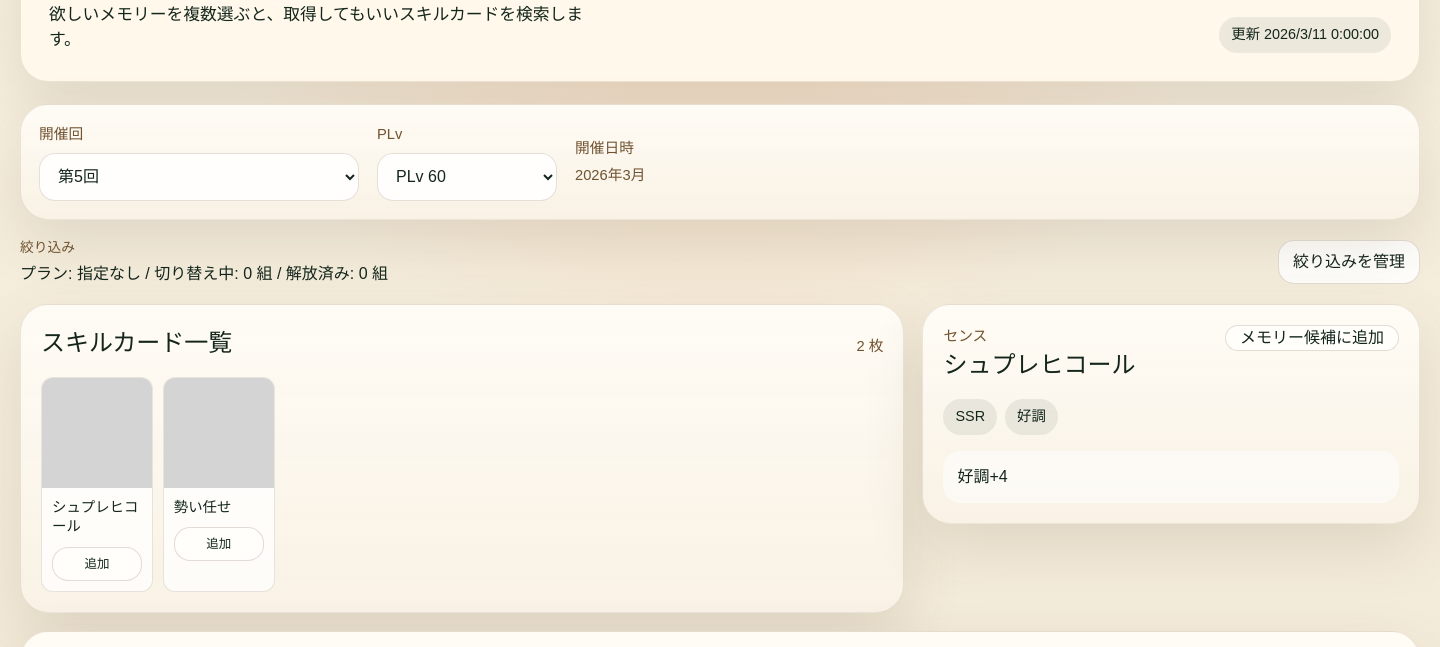
Test: AppShell › lets selected memories switch between base and upgraded states
The image size is (1440, 647).
Click the button with aria-label "シュプレヒコールを候補に追加" at (97, 485), box [41, 377, 153, 592]
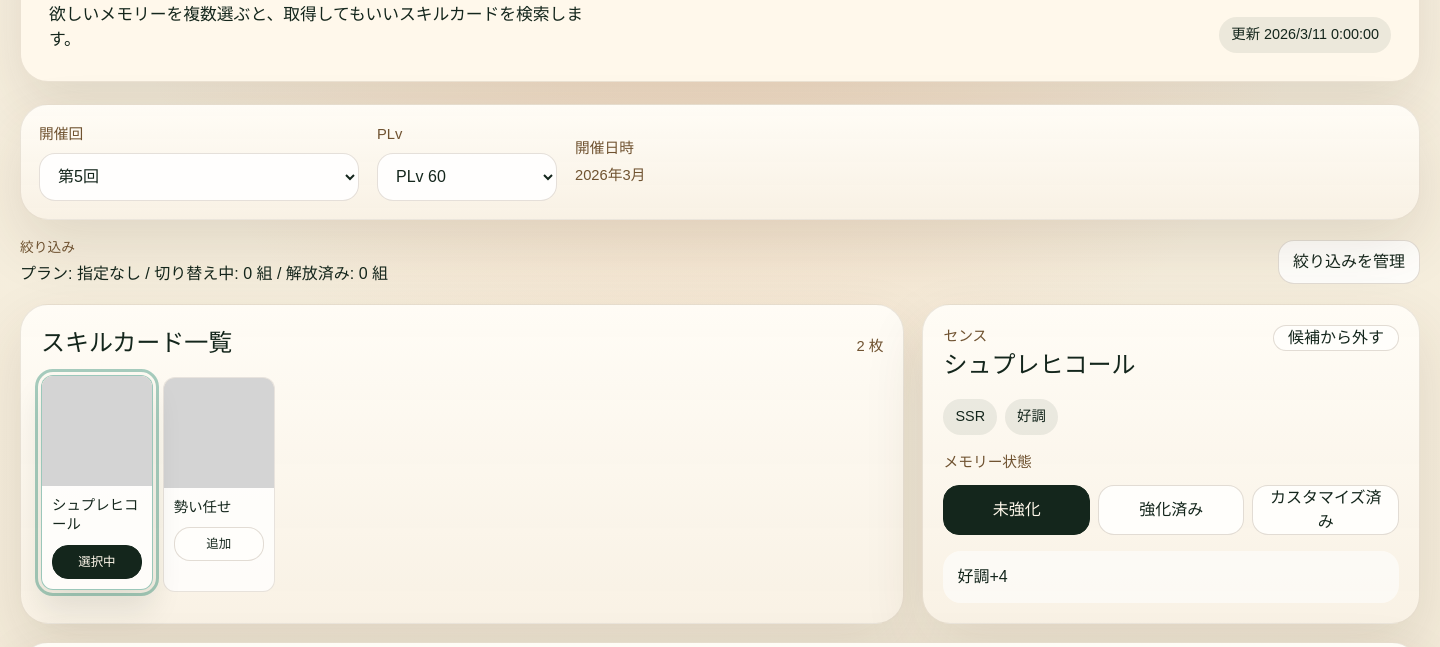
Expected: the text "好調+4" is shown, [958, 568, 1008, 585]
Click the button "強化済み" at (1171, 510), box [1098, 485, 1244, 535]
(page scrolled)
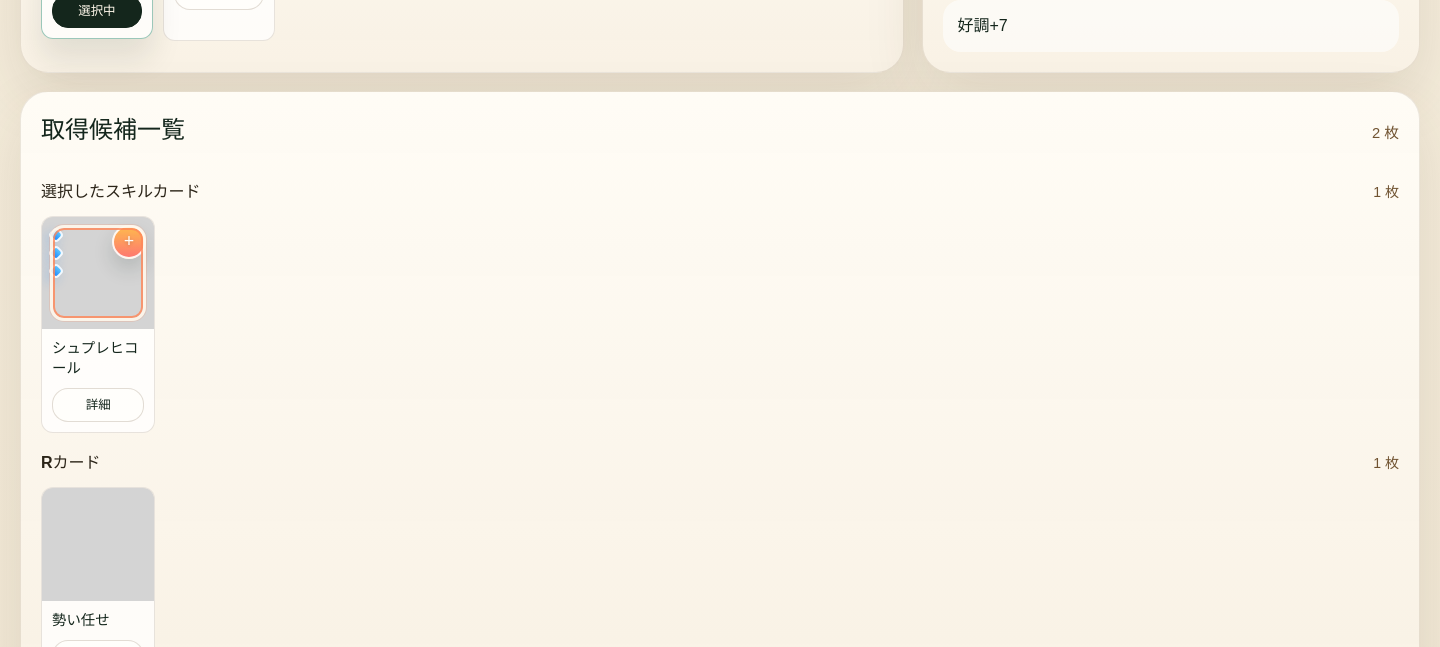
Expected: the text "好調+7" is shown, [958, 17, 1008, 34]
Expected: the text "+" is shown, [112, 225, 146, 259]
